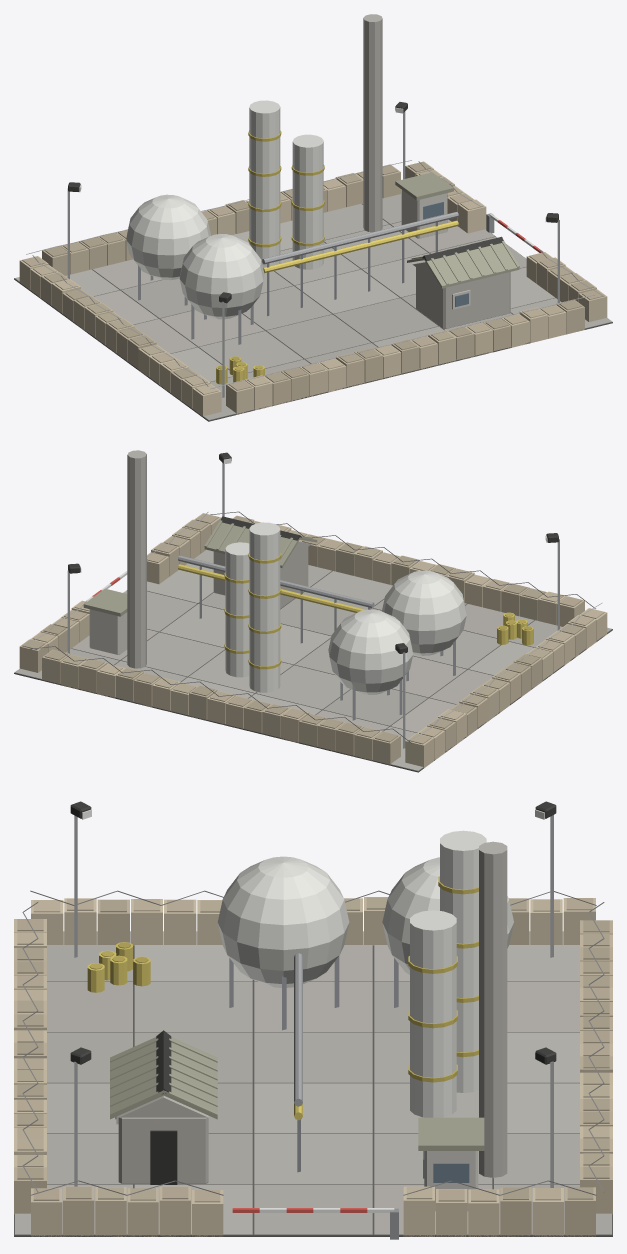
Rendered from b_chemplant.glb.
The picture shows the model from 3 angles, top to bottom: view 1: azimuth 30°, elevation 25°; view 2: azimuth 150°, elevation 25°; view 3: azimuth 270°, elevation 25°; orthographic projection. The views are drawn at different scales.
Visible parts, largest first — view 1: hull; view 2: hull; view 3: hull.
Boxes of the visible parts, bbox=[...] form: hull: bbox=[14, 14, 612, 421]; hull: bbox=[14, 450, 612, 772]; hull: bbox=[14, 801, 612, 1239].
Bounding box in the file's own units: 24.2 × 12 × 20.
